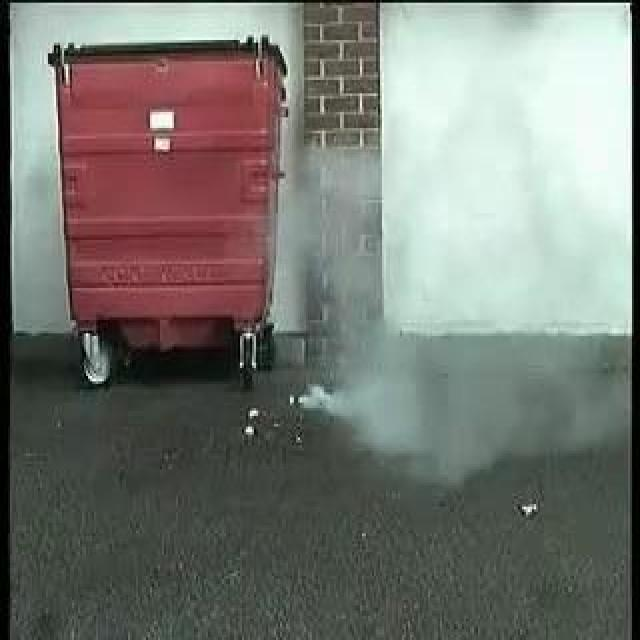Smoke: (287, 148, 419, 441)
